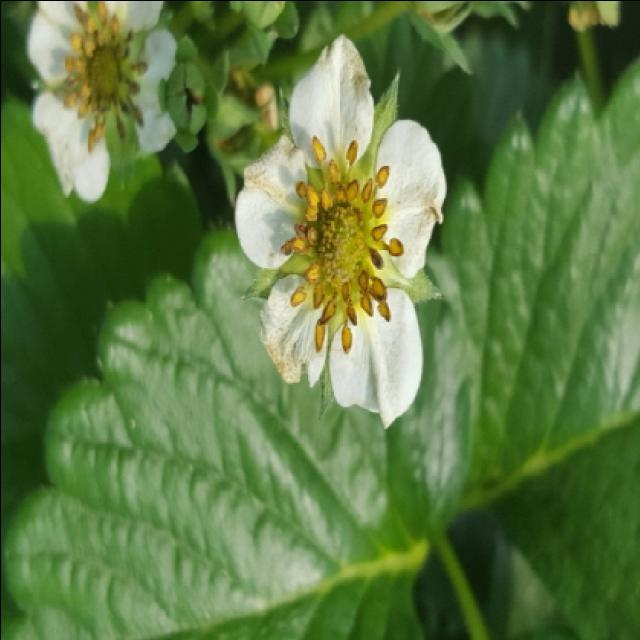Blossom Blight: (273, 133, 405, 359)
